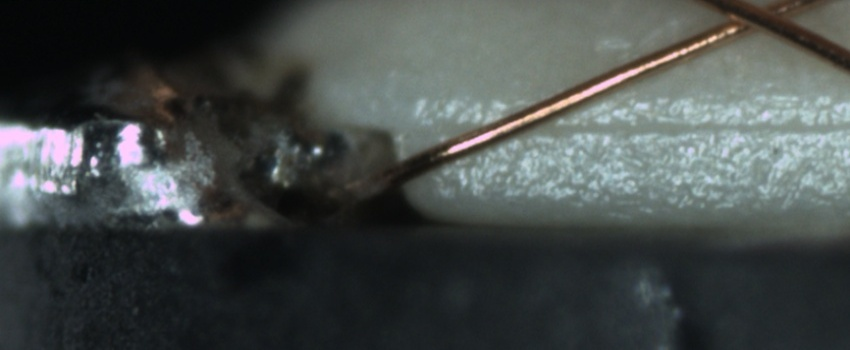CL: (698, 0, 813, 41)
DL: (459, 97, 850, 161)
